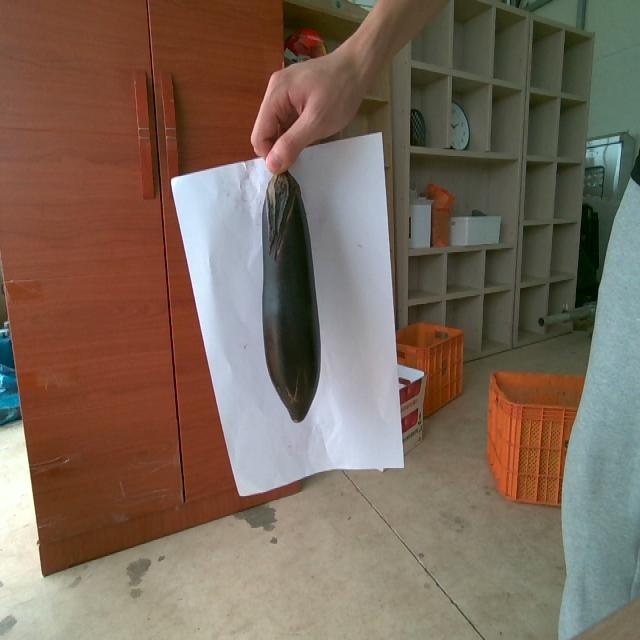Egg plant: (262, 171, 320, 421)
